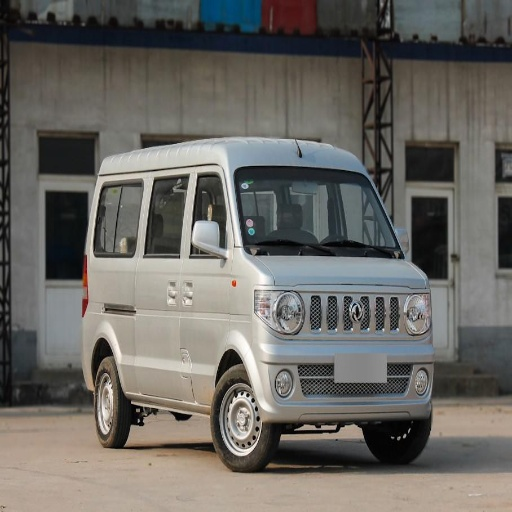front_bumper: (254, 289, 432, 419)
front_glass: (245, 170, 400, 256)
front_left_door: (128, 280, 190, 397)
front_right_door: (189, 171, 229, 272)
front_right_light: (255, 288, 303, 336)
trunk: (149, 266, 258, 388), (84, 271, 132, 343)
